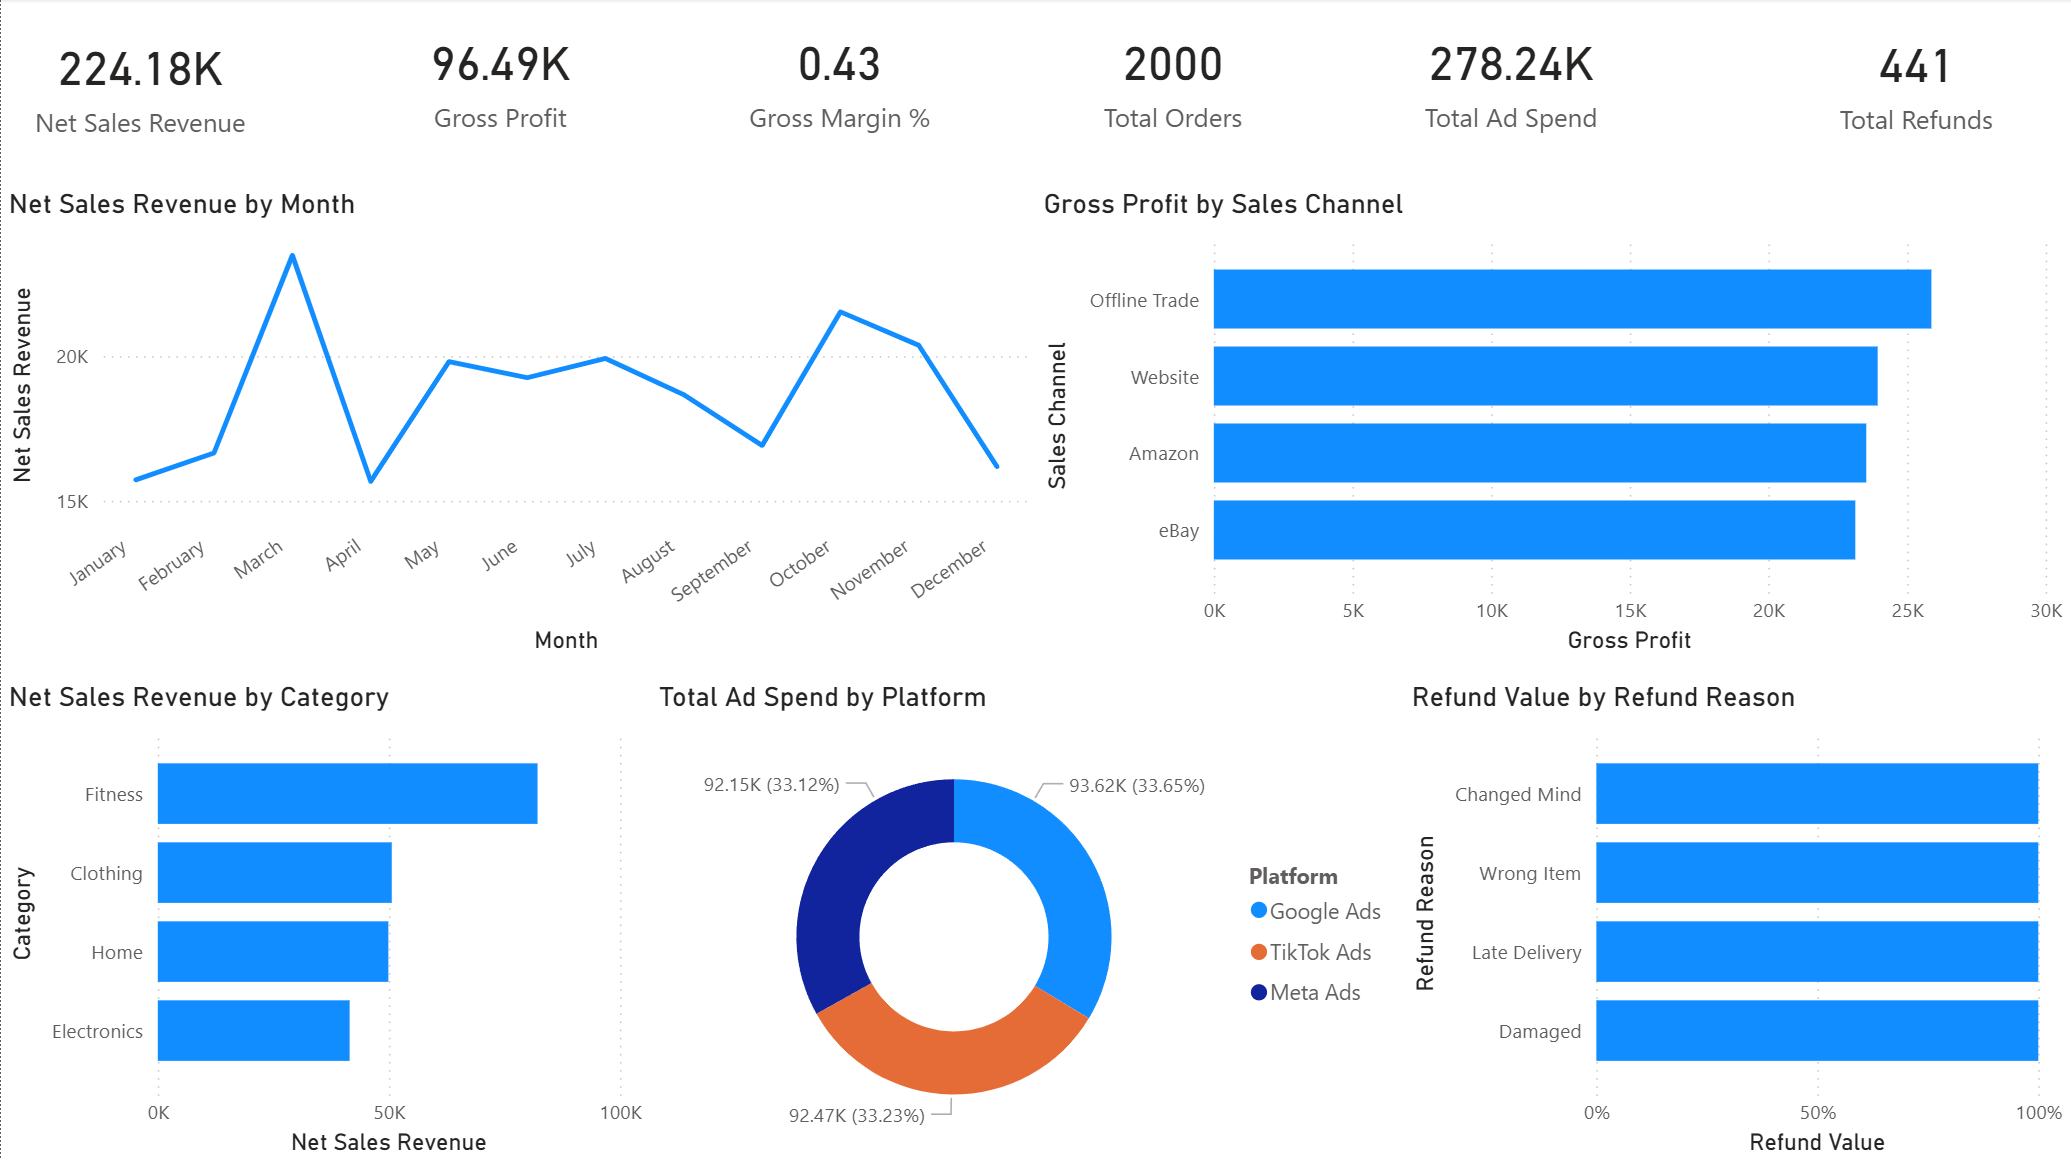

What the dashboard file says about the page in this screenshot:
{"tool":"powerbi","page":{"name":"RetailFlow Executive Overview","canvas":[1280,720],"ordinal":0},"visuals":[{"type":"card","fields":{"Values":["DIM_CUSTOMERS.Net Sales Revenue"]},"box":[9.5,0,153.7,103.1],"z":0},{"type":"card","fields":{"Values":["DIM_CUSTOMERS.Gross Profit"]},"box":[251.4,0,115.5,97.4],"z":1000},{"type":"card","fields":{"Values":["DIM_CUSTOMERS.Gross Margin %"]},"box":[455.1,0,127,97.4],"z":2000},{"type":"card","fields":{"Values":["DIM_CUSTOMERS.Total Orders"]},"box":[670.3,0,108.8,97.4],"z":3000},{"type":"card","fields":{"Values":["DIM_CUSTOMERS.Total Ad Spend"]},"box":[867.3,0,133.6,97.4],"z":4000},{"type":"card","fields":{"Values":["DIM_CUSTOMERS.Total Refunds"]},"box":[1089.1,0,190.9,100.2],"z":5000},{"type":"lineChart","fields":{"Category":["DIM_DATE.DATE_DAY.Variation.Date Hierarchy.Month","DIM_DATE.DATE_DAY.Variation.Date Hierarchy.Day"],"Y":["DIM_CUSTOMERS.Net Sales Revenue"]},"box":[0,116.5,640.5,293],"z":6000},{"type":"clusteredBarChart","fields":{"Category":["FACT_ORDERS.SALES_CHANNEL"],"Y":["DIM_CUSTOMERS.Gross Profit"]},"box":[640.5,116.5,639.5,293],"z":7000},{"type":"clusteredBarChart","fields":{"Category":["DIM_PRODUCTS.CATEGORY"],"Y":["DIM_CUSTOMERS.Net Sales Revenue"]},"box":[0,420.9,401.8,298.8],"z":8000},{"type":"donutChart","fields":{"Category":["FACT_AD_SPEND.PLATFORM"],"Y":["DIM_CUSTOMERS.Total Ad Spend"]},"box":[401.8,420.9,465.8,298.8],"z":8001},{"type":"hundredPercentStackedBarChart","fields":{"Category":["FACT_REFUNDS.REFUND_REASON"],"Y":["DIM_CUSTOMERS.Refund Value"]},"box":[867.7,420.9,412.3,298.8],"z":8002}]}

Visuals, with their boxes in screenshot pixels (x1, y1, x2, y2), scaled from the page's 1280x720 canvas onto the 2071x1160 screenshot:
card - DIM_CUSTOMERS.Net Sales Revenue: (left=15, top=0, right=264, bottom=166)
card - DIM_CUSTOMERS.Gross Profit: (left=407, top=0, right=594, bottom=157)
card - DIM_CUSTOMERS.Gross Margin %: (left=736, top=0, right=942, bottom=157)
card - DIM_CUSTOMERS.Total Orders: (left=1085, top=0, right=1261, bottom=157)
card - DIM_CUSTOMERS.Total Ad Spend: (left=1403, top=0, right=1619, bottom=157)
card - DIM_CUSTOMERS.Total Refunds: (left=1762, top=0, right=2070, bottom=161)
lineChart - DIM_DATE.DATE_DAY.Variation.Date Hierarchy.Month x DIM_DATE.DATE_DAY.Variation.Date Hierarchy.Day: (left=0, top=188, right=1036, bottom=660)
clusteredBarChart - FACT_ORDERS.SALES_CHANNEL x DIM_CUSTOMERS.Gross Profit: (left=1036, top=188, right=2070, bottom=660)
clusteredBarChart - DIM_PRODUCTS.CATEGORY x DIM_CUSTOMERS.Net Sales Revenue: (left=0, top=678, right=650, bottom=1159)
donutChart - FACT_AD_SPEND.PLATFORM x DIM_CUSTOMERS.Total Ad Spend: (left=650, top=678, right=1404, bottom=1159)
hundredPercentStackedBarChart - FACT_REFUNDS.REFUND_REASON x DIM_CUSTOMERS.Refund Value: (left=1404, top=678, right=2070, bottom=1159)
